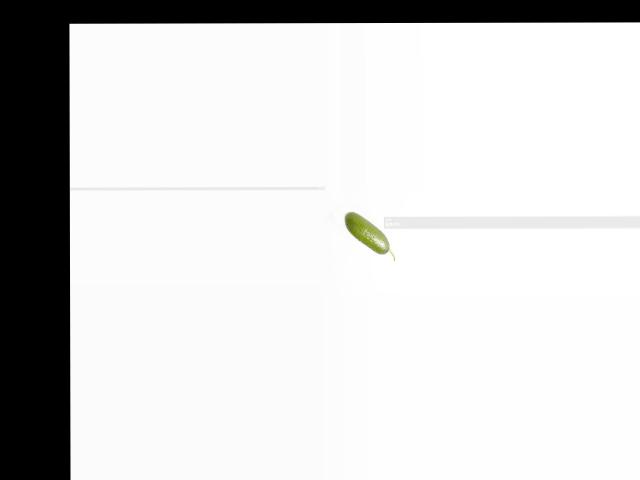cucumber: (345, 211, 396, 260)
